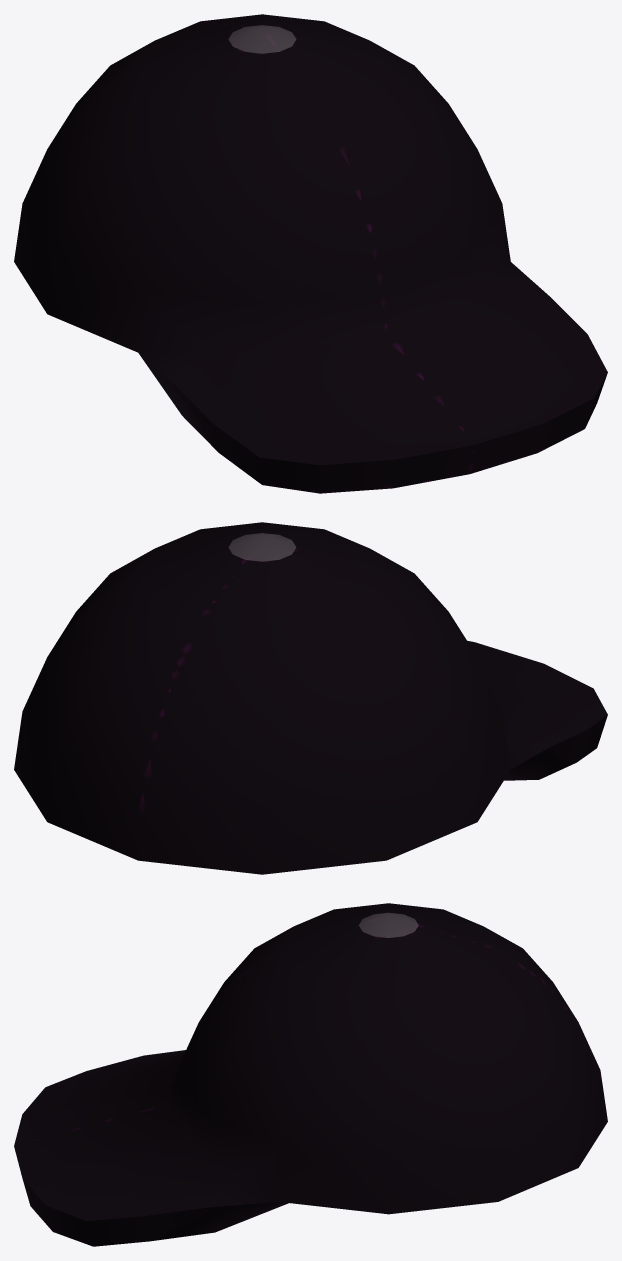
File: outift03.fbx
3 renders of one model, top to bottom at view 1: azimuth 30°, elevation 25°; view 2: azimuth 150°, elevation 25°; view 3: azimuth 270°, elevation 25°, orthographic. The views are drawn at different scales.
Visible parts, largest first — view 1: huggy03 cap; view 2: huggy03 cap; view 3: huggy03 cap.
Part boxes in pixels (left/top/right/bottom): huggy03 cap: left=14, top=14, right=607, bottom=493; huggy03 cap: left=14, top=522, right=607, bottom=874; huggy03 cap: left=14, top=903, right=607, bottom=1246.
Size of the model in its own units: 0.3448 by 0.2263 by 0.467.
